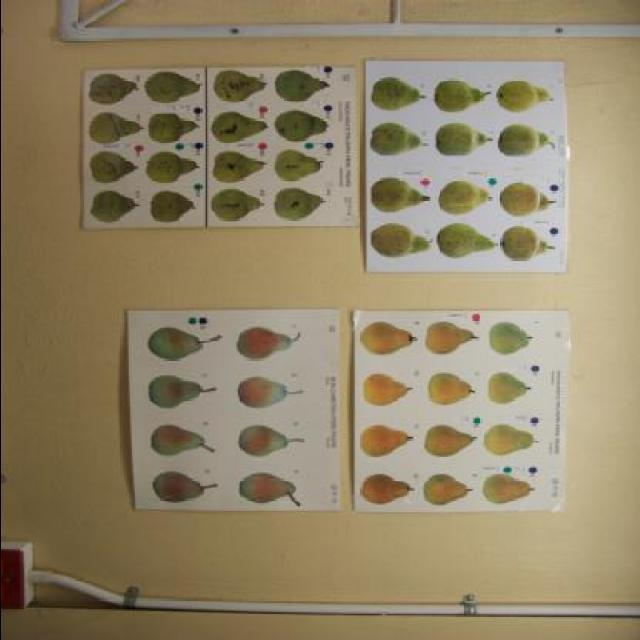Pear: (433, 220, 498, 258), (235, 326, 307, 360), (150, 469, 218, 505), (239, 472, 307, 508), (148, 328, 228, 358), (370, 178, 436, 214), (150, 374, 218, 408), (235, 424, 307, 456), (370, 223, 432, 260), (434, 120, 496, 156), (434, 178, 494, 215), (360, 318, 418, 356), (150, 426, 214, 460), (356, 422, 413, 460), (144, 146, 202, 183), (369, 76, 426, 113), (432, 78, 494, 112), (494, 78, 556, 112), (208, 110, 266, 146), (497, 181, 555, 217), (428, 318, 482, 356), (500, 226, 556, 262), (235, 378, 307, 406), (142, 73, 204, 105), (212, 68, 270, 102), (274, 186, 328, 222), (497, 124, 557, 156), (84, 111, 142, 143), (370, 124, 428, 156), (358, 473, 416, 505), (274, 109, 328, 143), (212, 149, 266, 183), (85, 152, 142, 184), (423, 426, 480, 458), (363, 374, 415, 408), (422, 472, 474, 506), (427, 372, 478, 406), (274, 70, 329, 101), (484, 424, 540, 454), (148, 112, 202, 143), (273, 148, 325, 180), (212, 188, 263, 220), (89, 192, 138, 224), (147, 192, 199, 222), (88, 74, 138, 105), (482, 473, 532, 504), (490, 320, 533, 356), (488, 371, 532, 406)
